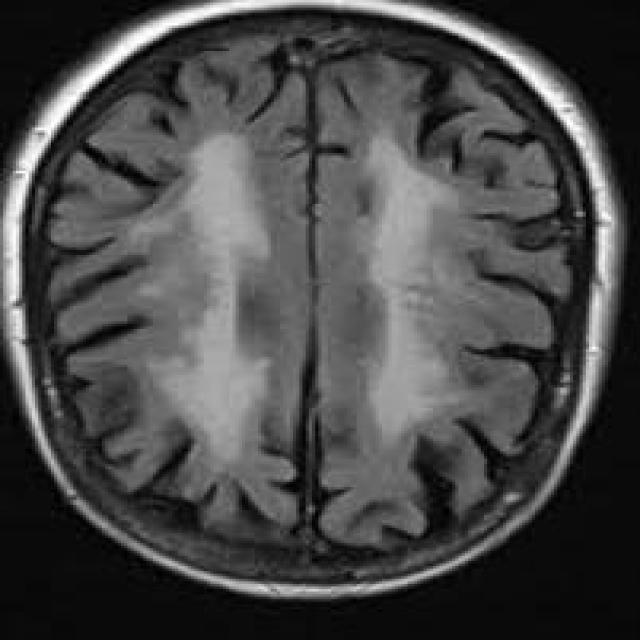no-tumor: (114, 112, 473, 474)
